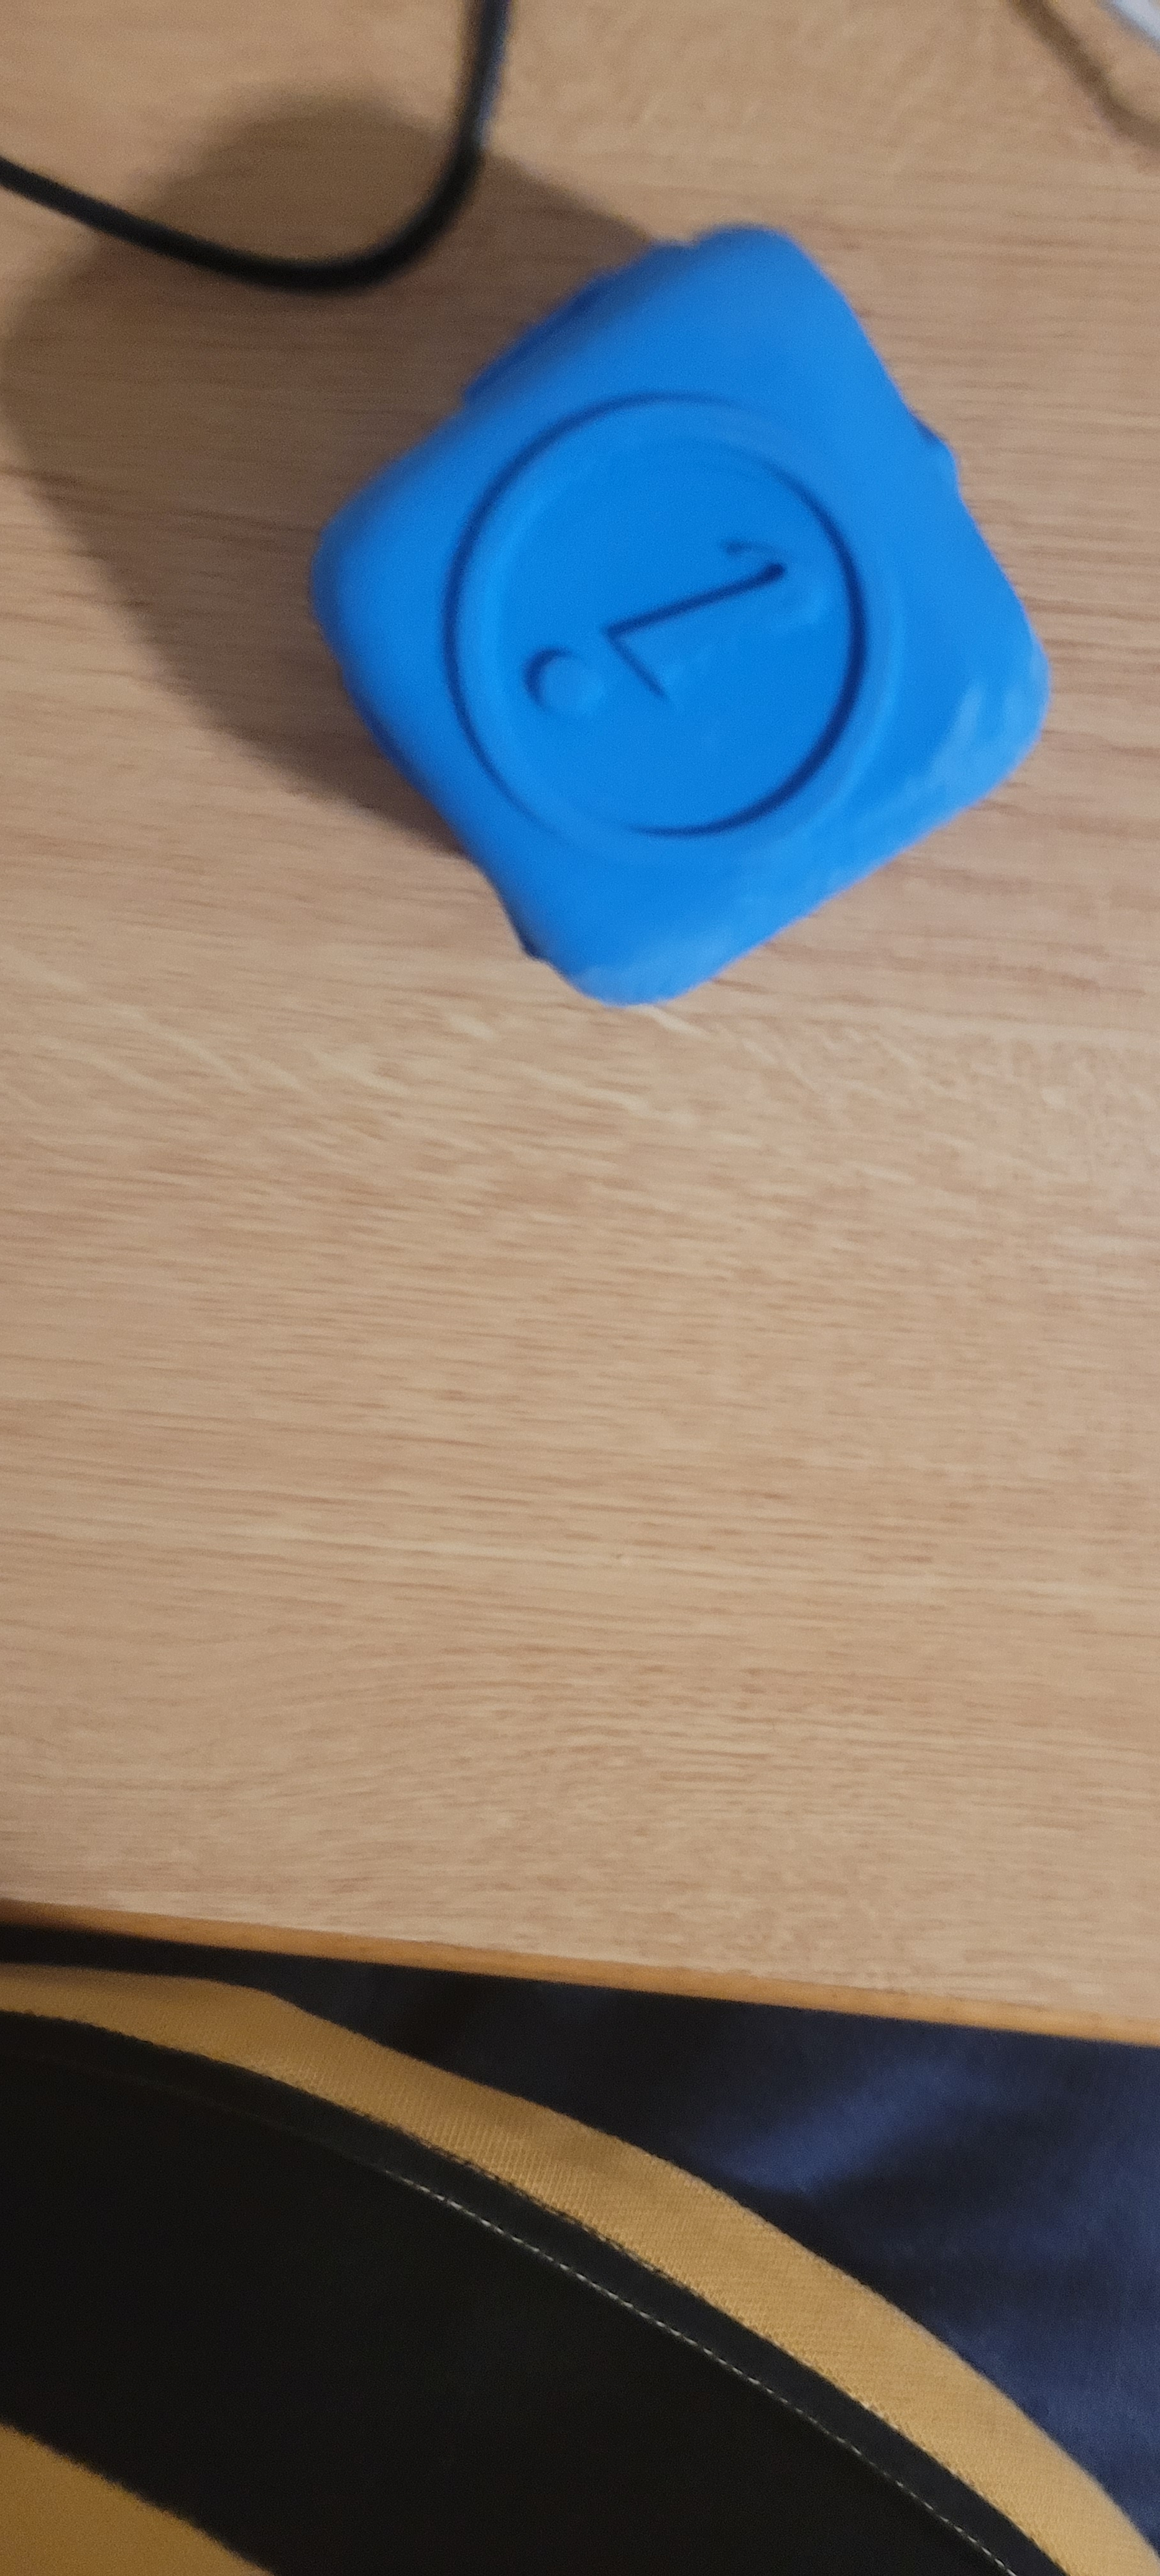Info: (294, 245, 1022, 974)
